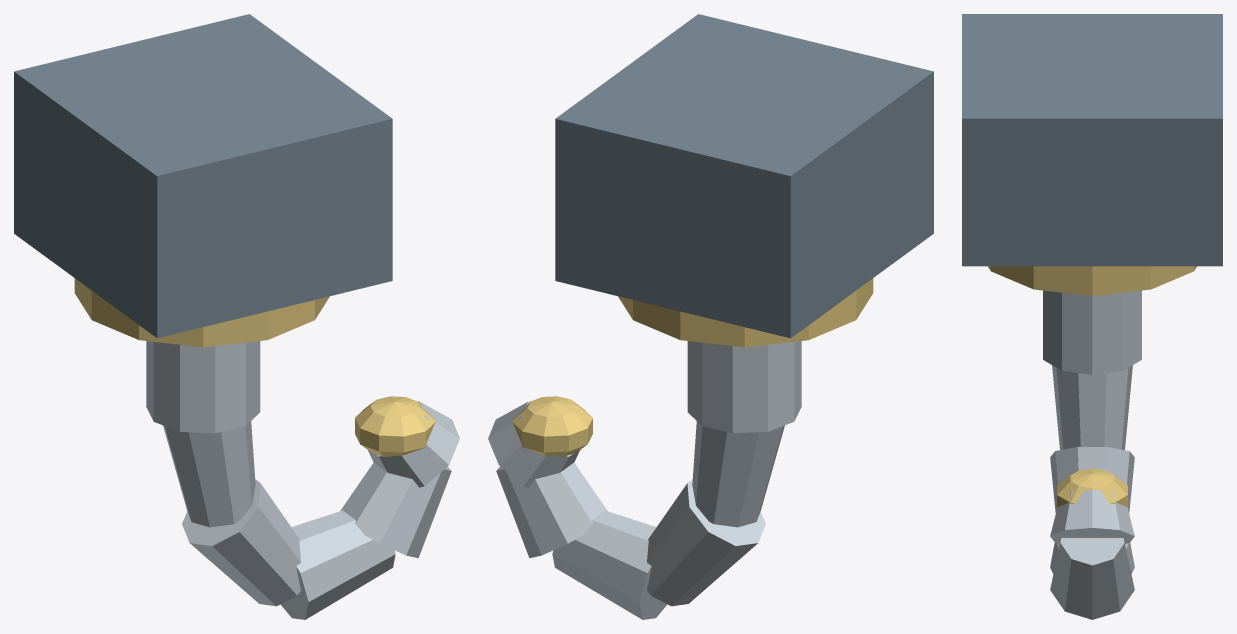
The model's file is grua_gancho.glb.
3 renders of one model, left to right at view 1: azimuth 30°, elevation 25°; view 2: azimuth 150°, elevation 25°; view 3: azimuth 270°, elevation 25°, orthographic. The views are drawn at different scales.
Visible parts, largest first — view 1: grua_gancho; view 2: grua_gancho; view 3: grua_gancho.
Part boxes in pixels (x1,y1,x2,y2): grua_gancho: [14, 14, 459, 619]; grua_gancho: [488, 14, 933, 619]; grua_gancho: [962, 14, 1222, 619].
Bounding box in the file's own units: 0.5915 × 0.8397 × 0.4.
